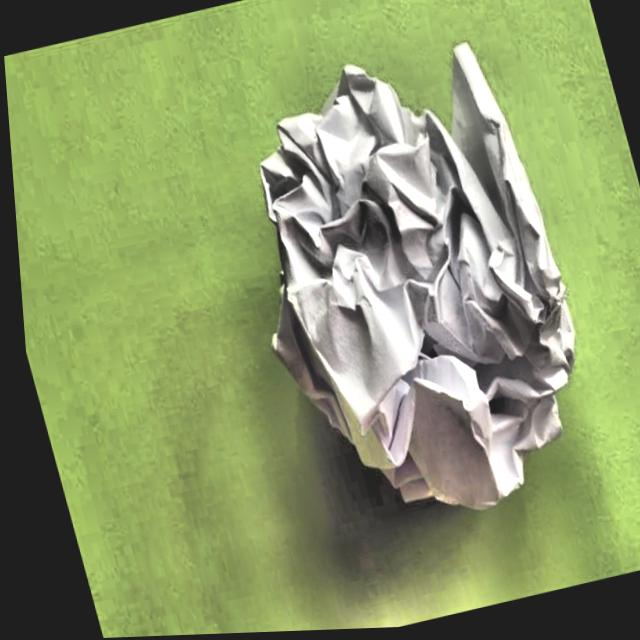Paper: (185, 7, 626, 575)
